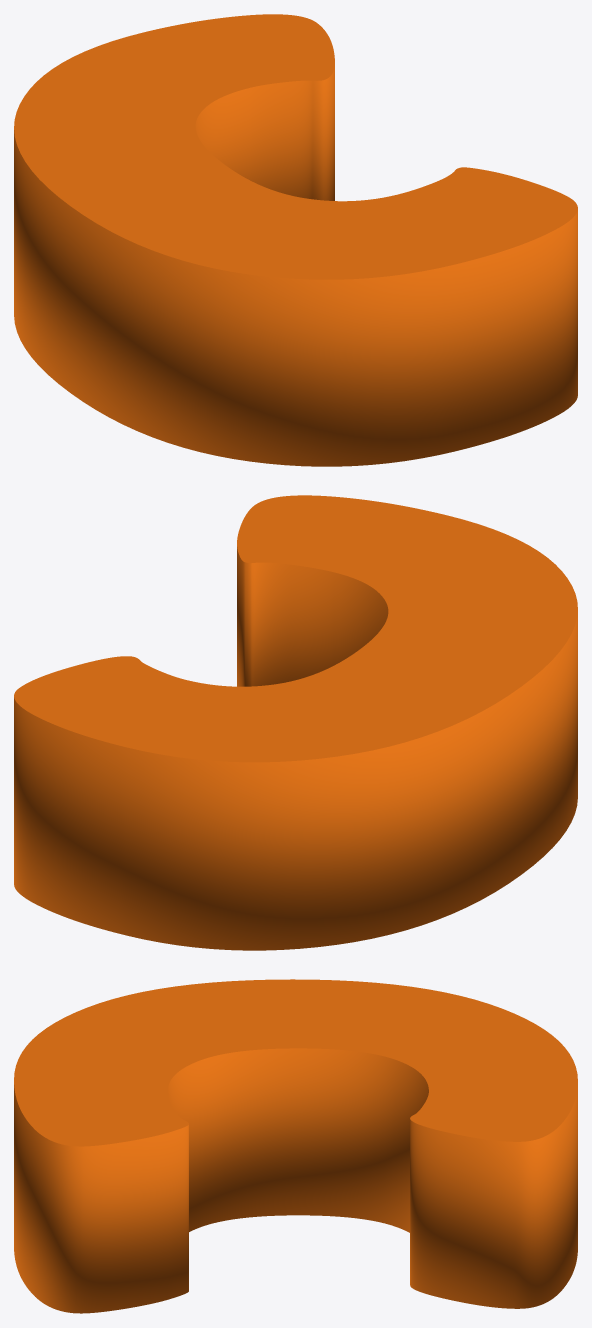
3 views of the same model, one above another, from view 1: azimuth 30°, elevation 25°; view 2: azimuth 150°, elevation 25°; view 3: azimuth 270°, elevation 25° (orthographic). The views are drawn at different scales.
Parts seen in each view (by area): view 1: c; view 2: c; view 3: c.
Boxes of the visible parts, bbox=[...] form: c: bbox=[14, 14, 577, 466]; c: bbox=[14, 495, 577, 950]; c: bbox=[14, 979, 577, 1313].
Size of the model in its own units: 0.2546 by 0.1186 by 0.3632.
